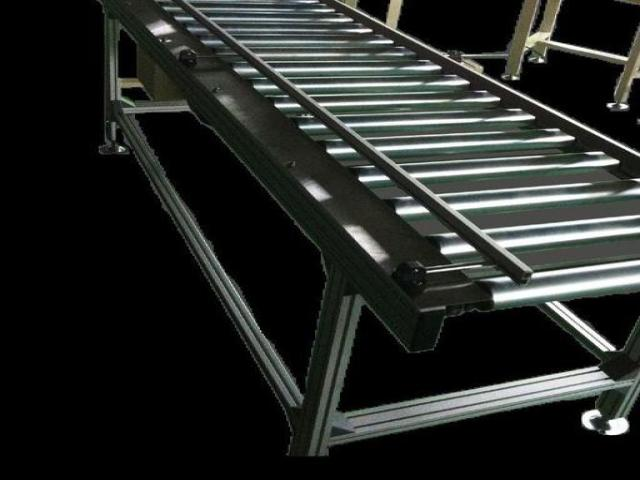conveyor: (85, 0, 639, 458)
